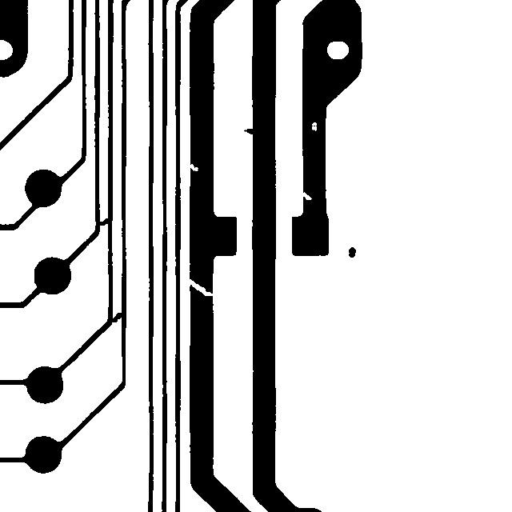copper: (341, 239, 363, 265)
mousebite: (292, 184, 319, 207), (181, 156, 206, 178)
open: (179, 271, 221, 303)
pin-hole: (304, 114, 324, 138)
short: (100, 305, 130, 330), (90, 210, 117, 233)
spur: (236, 121, 262, 142)
